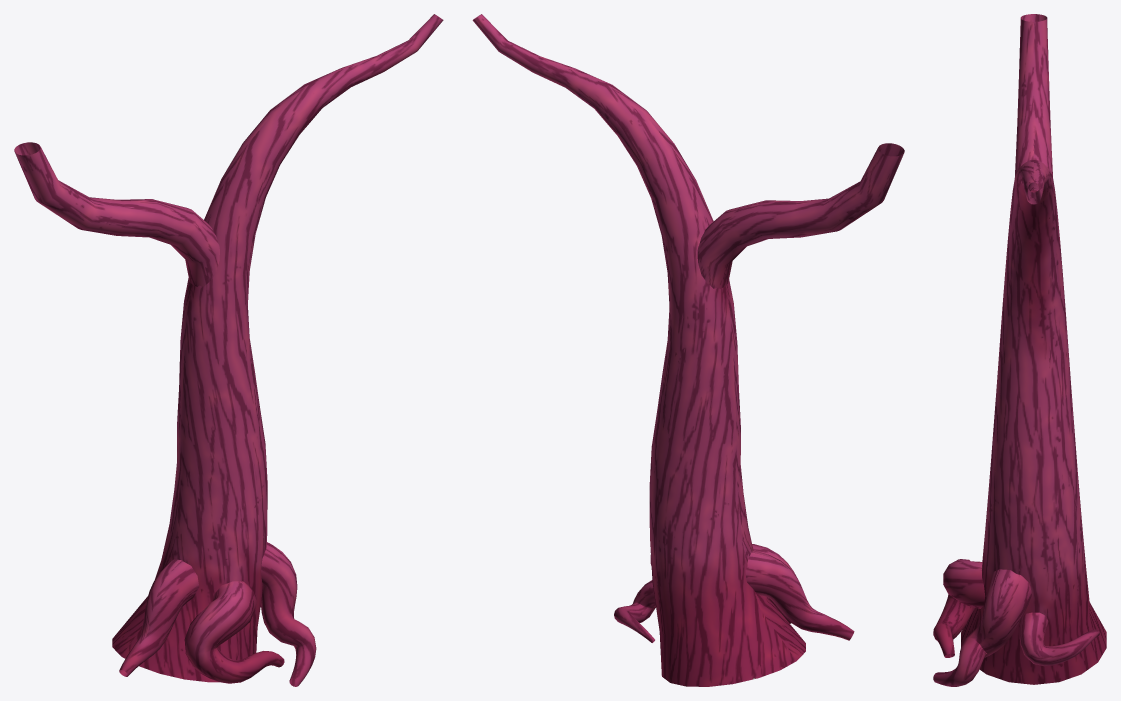
Rendered from Tree.fbx.
The picture shows the model from 3 angles, left to right: view 1: azimuth 30°, elevation 25°; view 2: azimuth 150°, elevation 25°; view 3: azimuth 270°, elevation 25°; orthographic projection.
Visible parts, largest first — view 1: polySurface161, polySurface162, polySurface160, polySurface158, polySurface163; view 2: polySurface161, polySurface162, polySurface163, polySurface157; view 3: polySurface161, polySurface162, polySurface158, polySurface160, polySurface157.
Boxes of the visible parts, x1=… form: polySurface161: x1=112, y1=14, x2=443, y2=682; polySurface162: x1=14, y1=142, x2=219, y2=286; polySurface160: x1=184, y1=581, x2=284, y2=683; polySurface158: x1=261, y1=542, x2=316, y2=686; polySurface163: x1=119, y1=559, x2=198, y2=676; polySurface161: x1=472, y1=14, x2=805, y2=686; polySurface162: x1=697, y1=143, x2=904, y2=288; polySurface163: x1=745, y1=550, x2=854, y2=640; polySurface157: x1=614, y1=580, x2=655, y2=642; polySurface161: x1=961, y1=160, x2=1106, y2=684; polySurface162: x1=1015, y1=14, x2=1052, y2=176; polySurface158: x1=933, y1=569, x2=1031, y2=686; polySurface160: x1=933, y1=559, x2=985, y2=657; polySurface157: x1=1019, y1=612, x2=1099, y2=666.
Size of the model in its own units: 9.52 by 12.66 by 3.35.
Materials: 1 (1 with a texture image).
